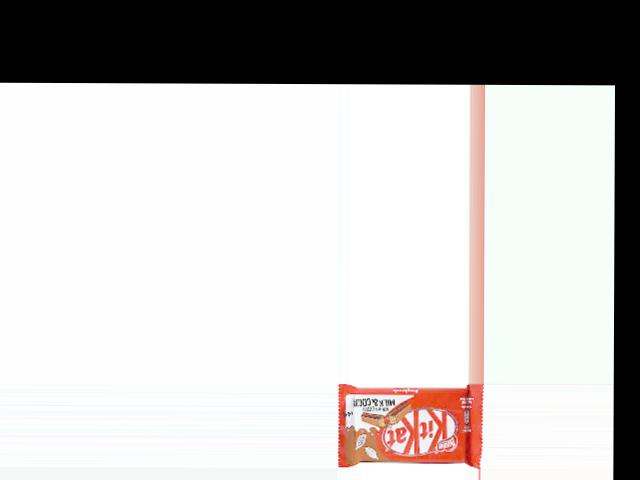chocolate: (336, 383, 482, 468)
